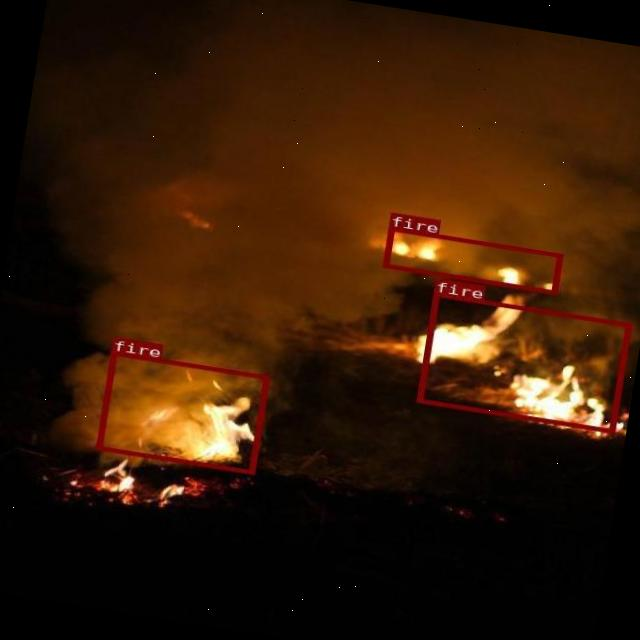fire: (416, 292, 632, 432), (95, 350, 269, 474), (381, 227, 561, 294)
